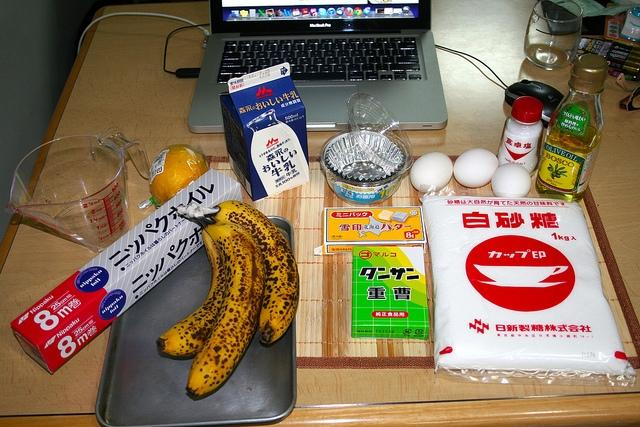banana: (193, 201, 300, 346), (187, 217, 264, 401), (157, 231, 226, 360)
